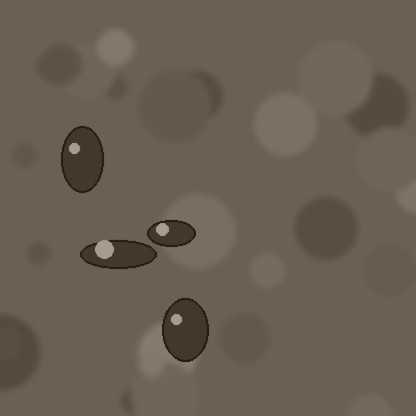gota: (162, 300, 208, 366), (61, 128, 103, 198), (80, 241, 156, 271), (147, 221, 195, 249)
